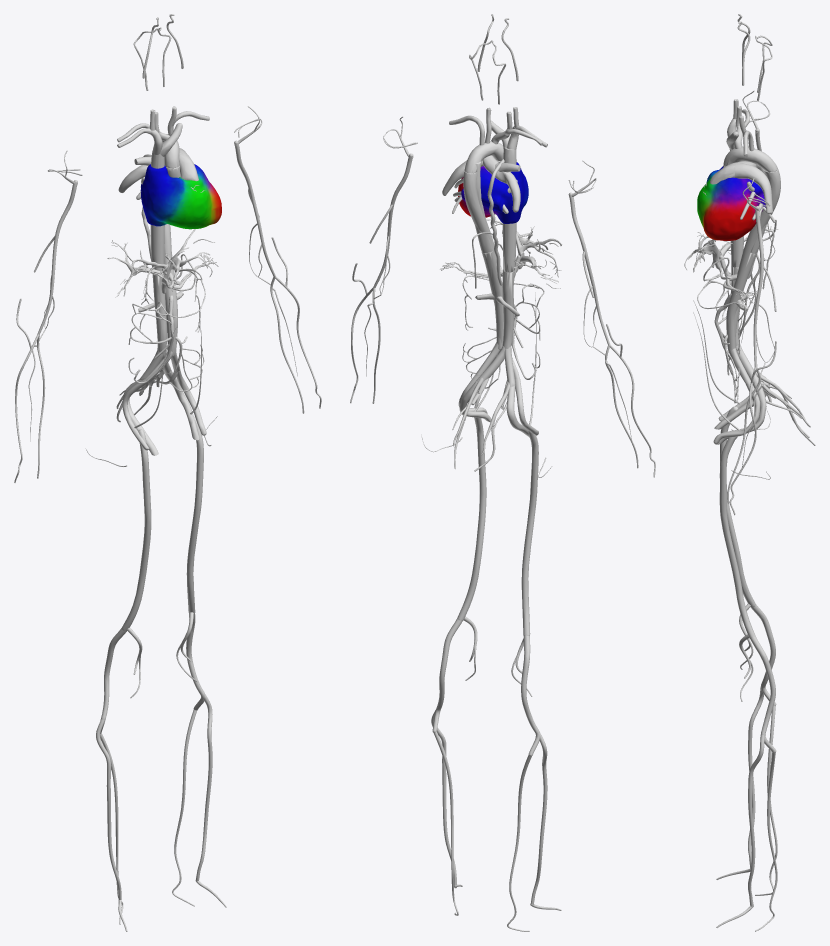
The model's file is cardiovascular.glb.
The picture shows the model from 3 angles, left to right: view 1: azimuth 30°, elevation 25°; view 2: azimuth 150°, elevation 25°; view 3: azimuth 270°, elevation 25°; orthographic projection.
Parts seen in each view (by area): view 1: leg-arteries-r, leg-arteries-l, heart, venae-cavae, visceral-arteries, arm-arteries-r, arm-arteries-l, portal-vein, neck-arteries, aorta, pulmonary-arteries, iliac-veins-l (+1 smaller); view 2: leg-arteries-r, leg-arteries-l, aorta, venae-cavae, arm-arteries-r, arm-arteries-l, heart, visceral-arteries, neck-arteries, iliac-veins-l, iliac-veins-r, pulmonary-arteries (+2 smaller); view 3: leg-arteries-l, leg-arteries-r, heart, aorta, arm-arteries-l, visceral-arteries, neck-arteries, pulmonary-arteries, iliac-veins-l, venae-cavae, arm-arteries-r, portal-vein (+1 smaller).
Part boxes in pixels (x1,y1,x2,y2): leg-arteries-r: (85, 327, 176, 931); leg-arteries-l: (153, 321, 226, 907); heart: (140, 164, 221, 229); venae-cavae: (117, 109, 182, 355); visceral-arteries: (128, 253, 218, 391); arm-arteries-r: (14, 150, 82, 482); arm-arteries-l: (234, 106, 321, 413); portal-vein: (107, 229, 214, 304); neck-arteries: (117, 14, 209, 144); aorta: (162, 134, 180, 356); pulmonary-arteries: (118, 148, 198, 192); iliac-veins-l: (134, 353, 199, 440); leg-arteries-r: (492, 292, 561, 931); leg-arteries-l: (421, 342, 500, 915); aorta: (463, 141, 503, 349); venae-cavae: (490, 107, 547, 348); arm-arteries-r: (568, 160, 655, 477); arm-arteries-l: (350, 116, 417, 403); heart: (458, 162, 528, 223); visceral-arteries: (440, 243, 544, 388); neck-arteries: (449, 14, 542, 145); iliac-veins-l: (453, 346, 505, 468); iliac-veins-r: (474, 346, 529, 471); pulmonary-arteries: (442, 155, 520, 212); leg-arteries-l: (693, 312, 801, 931); leg-arteries-r: (693, 300, 791, 895); heart: (697, 166, 765, 240); aorta: (723, 146, 780, 353); arm-arteries-l: (727, 178, 776, 515); visceral-arteries: (697, 257, 757, 403); neck-arteries: (734, 14, 772, 157); pulmonary-arteries: (710, 145, 772, 214); iliac-veins-l: (715, 344, 815, 445); venae-cavae: (726, 99, 743, 346); arm-arteries-r: (727, 90, 776, 375); portal-vein: (684, 226, 777, 284).
Bounding box in the file's own units: 0.559 × 1.58 × 0.2095.
